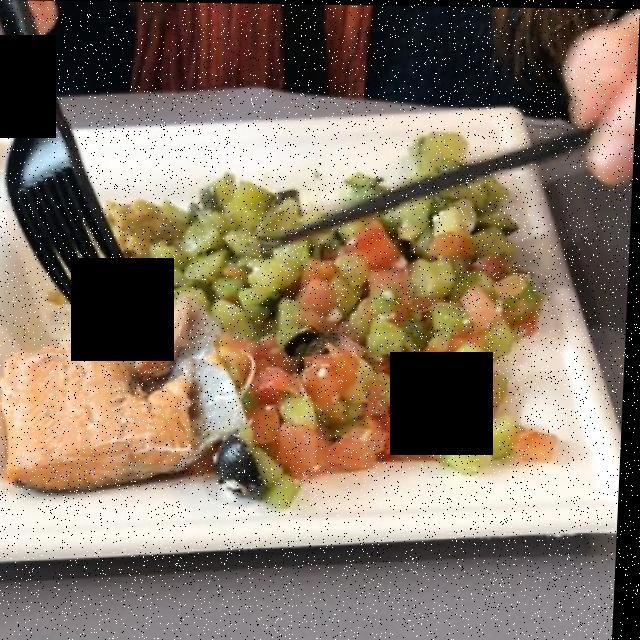ratatouille: (145, 129, 542, 467)
salmon: (0, 304, 243, 491)
